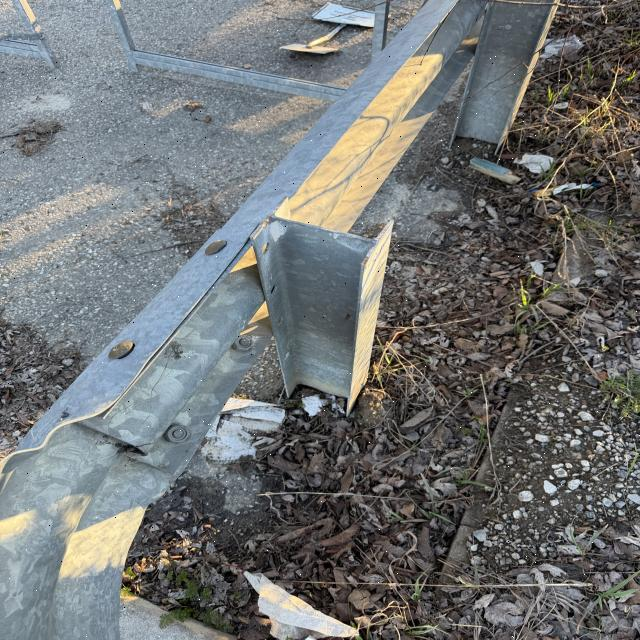Guard rail: (6, 232, 391, 626)
